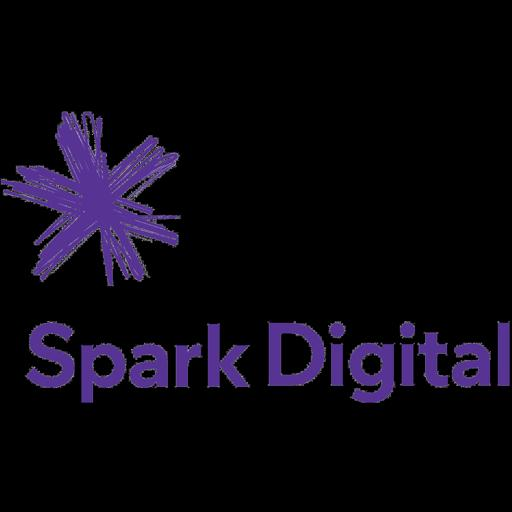Spark New Zealand: (0, 107, 512, 404)
